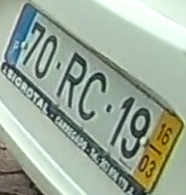0: (32, 34, 58, 79)
1: (108, 96, 136, 147)
7: (20, 20, 46, 66)
9: (118, 107, 152, 159)
C: (75, 70, 107, 121)
R: (53, 49, 88, 109)
